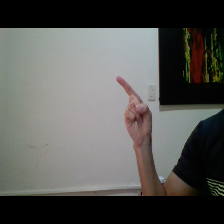2T: (113, 72, 158, 146)
